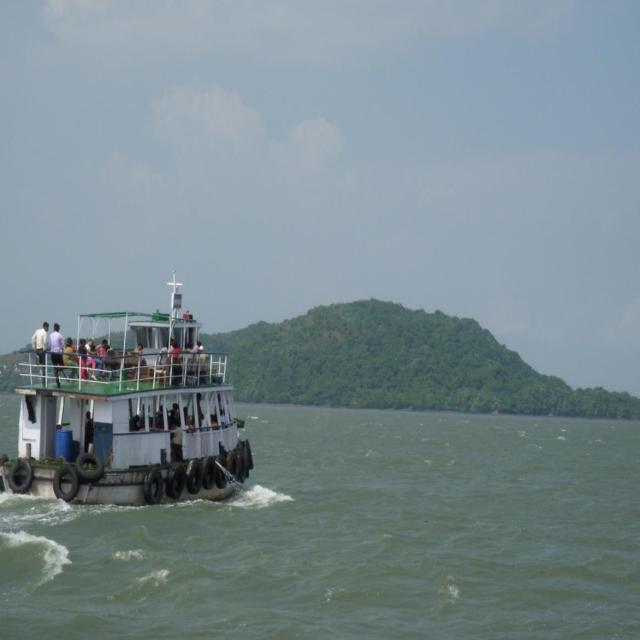passenger ship: (14, 288, 256, 504)
